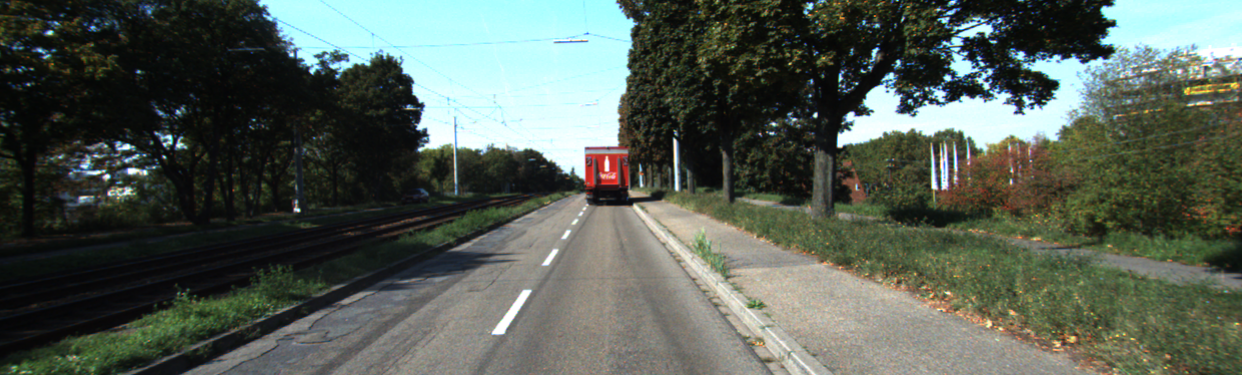car: (398, 189, 430, 207)
